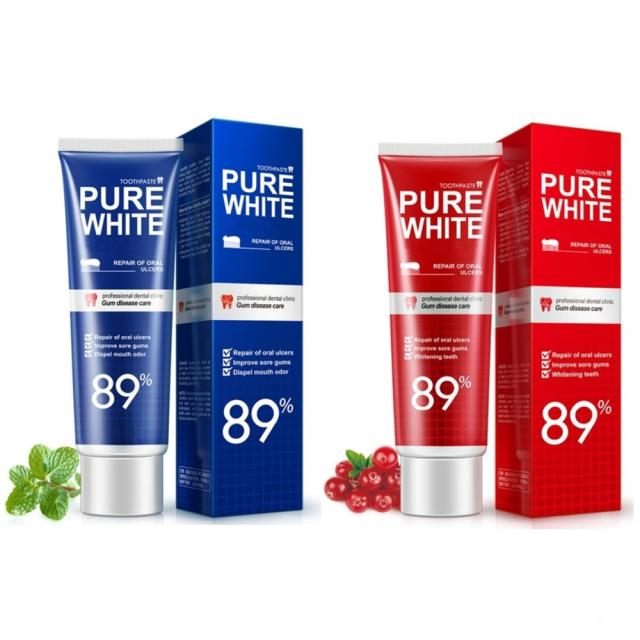toothpaste: (181, 102, 327, 544), (366, 128, 502, 528), (501, 112, 626, 534), (46, 117, 172, 525)
